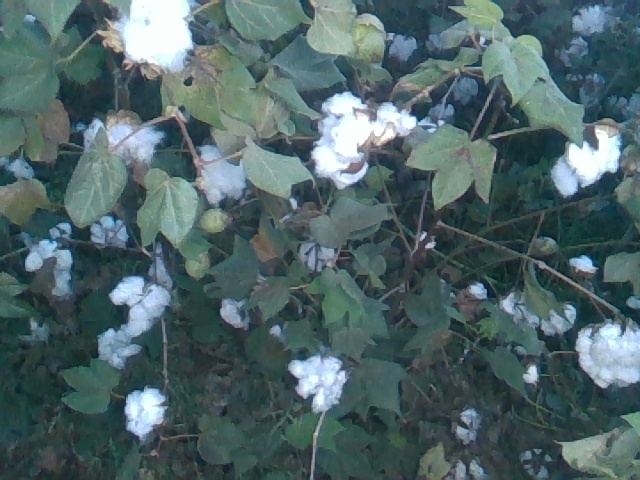cotton: (92, 275, 167, 372), (306, 89, 371, 191), (113, 1, 199, 76), (549, 121, 623, 197), (573, 316, 640, 392), (18, 222, 79, 301), (494, 282, 577, 336), (79, 114, 165, 164), (287, 347, 349, 411), (194, 145, 252, 211), (118, 384, 171, 441), (299, 228, 340, 275), (564, 70, 608, 112), (568, 3, 620, 38), (87, 212, 130, 254), (215, 290, 252, 337), (373, 105, 418, 143), (436, 453, 492, 480), (510, 344, 545, 385), (554, 36, 592, 72), (518, 445, 556, 480), (450, 404, 482, 445), (2, 150, 39, 185), (17, 317, 51, 346), (419, 105, 456, 131), (387, 33, 417, 64), (565, 254, 601, 275), (453, 77, 478, 104), (461, 281, 489, 300)
